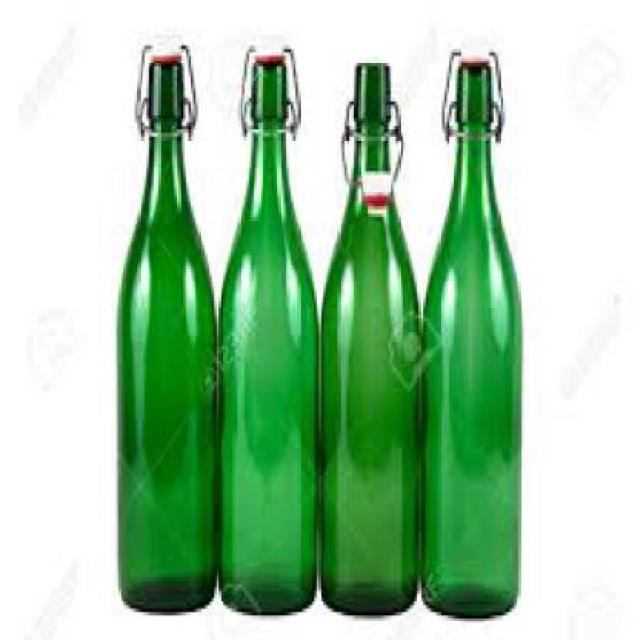GLASS: (215, 42, 316, 612), (116, 42, 216, 609), (418, 46, 517, 616), (317, 59, 418, 616)
